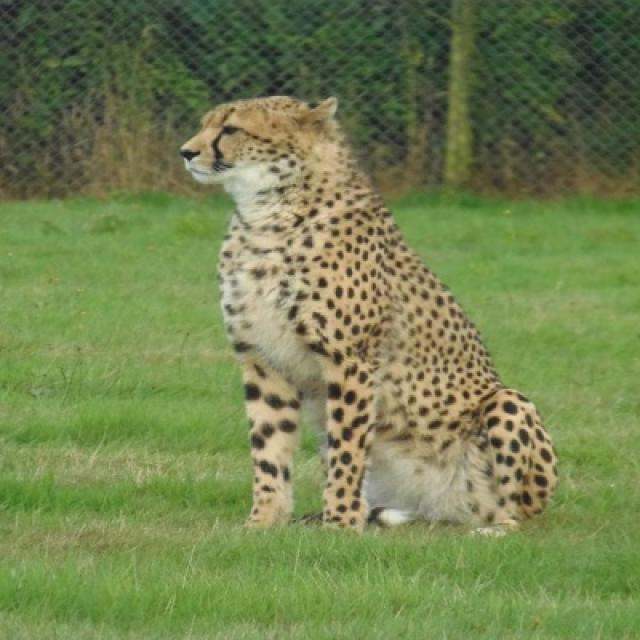Cheetah: (178, 96, 557, 536)
